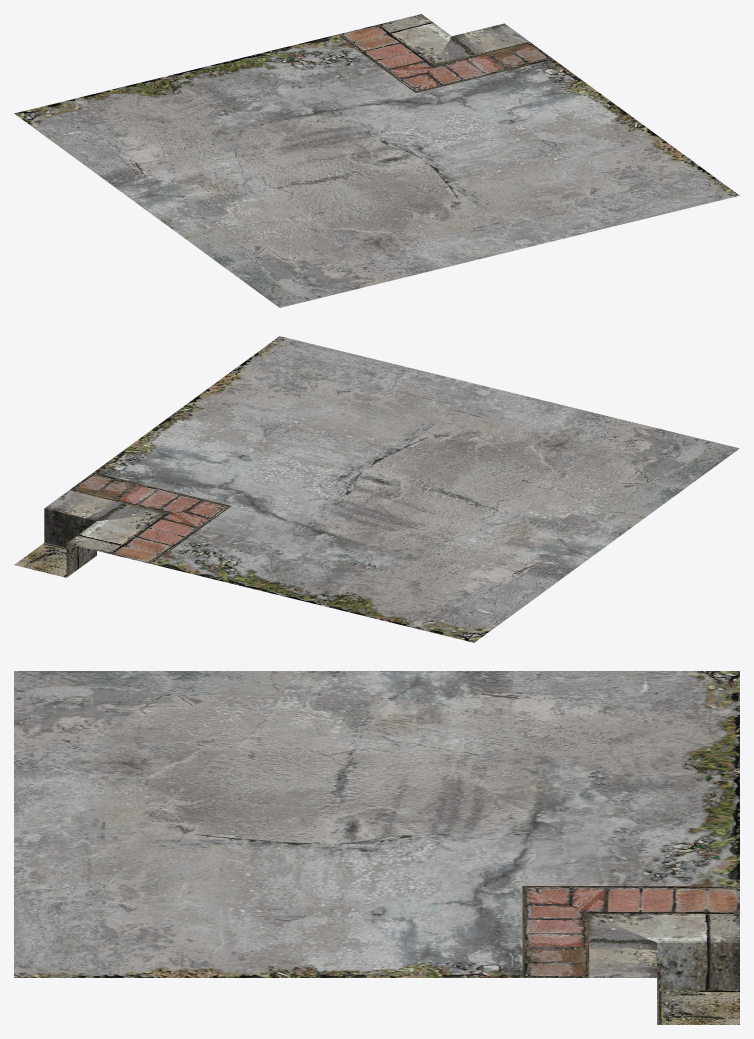
File: Sidewalk1_TurnB.FBX
3 views of the same model, one above another, from view 1: azimuth 30°, elevation 25°; view 2: azimuth 150°, elevation 25°; view 3: azimuth 270°, elevation 25° (orthographic). The views are drawn at different scales.
Visible parts, largest first — view 1: Sidewalk1_TurnB; view 2: Sidewalk1_TurnB; view 3: Sidewalk1_TurnB.
Part boxes in pixels (left/top/right/bottom): Sidewalk1_TurnB: left=14, top=14, right=739, bottom=307; Sidewalk1_TurnB: left=14, top=336, right=739, bottom=642; Sidewalk1_TurnB: left=14, top=671, right=739, bottom=1024.
Bounding box in the file's own units: 350 × 25 × 350.
Materials: 2 (2 with a texture image).
